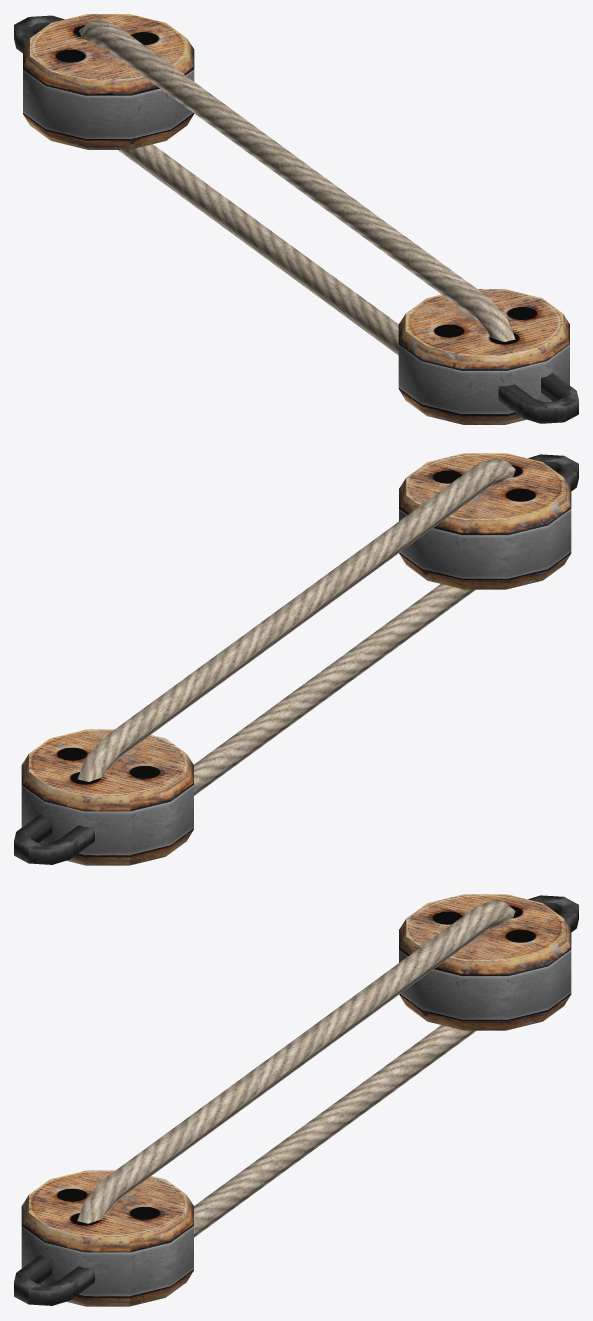
Rendered from Two Rope Lanyard.fbx.
3 renders of one model, top to bottom at view 1: azimuth 30°, elevation 25°; view 2: azimuth 150°, elevation 25°; view 3: azimuth 330°, elevation 25°, orthographic.
Parts seen in each view (by area): view 1: Two Rope Lanyard, Deadeye Start, Deadeye End; view 2: Two Rope Lanyard, Deadeye End, Deadeye Start; view 3: Two Rope Lanyard, Deadeye Start, Deadeye End.
Part boxes in pixels (<box>): Two Rope Lanyard: <box>79,19,515,355</box>; Deadeye Start: <box>398,289,578,424</box>; Deadeye End: <box>14,14,194,149</box>; Two Rope Lanyard: <box>77,459,515,795</box>; Deadeye End: <box>14,729,193,865</box>; Deadeye Start: <box>399,453,578,589</box>; Two Rope Lanyard: <box>77,900,515,1237</box>; Deadeye Start: <box>14,1170,193,1306</box>; Deadeye End: <box>399,894,578,1030</box>.
Size of the model in its own units: 19.81 by 123 by 14.42.
2 materials, 2 textured.
